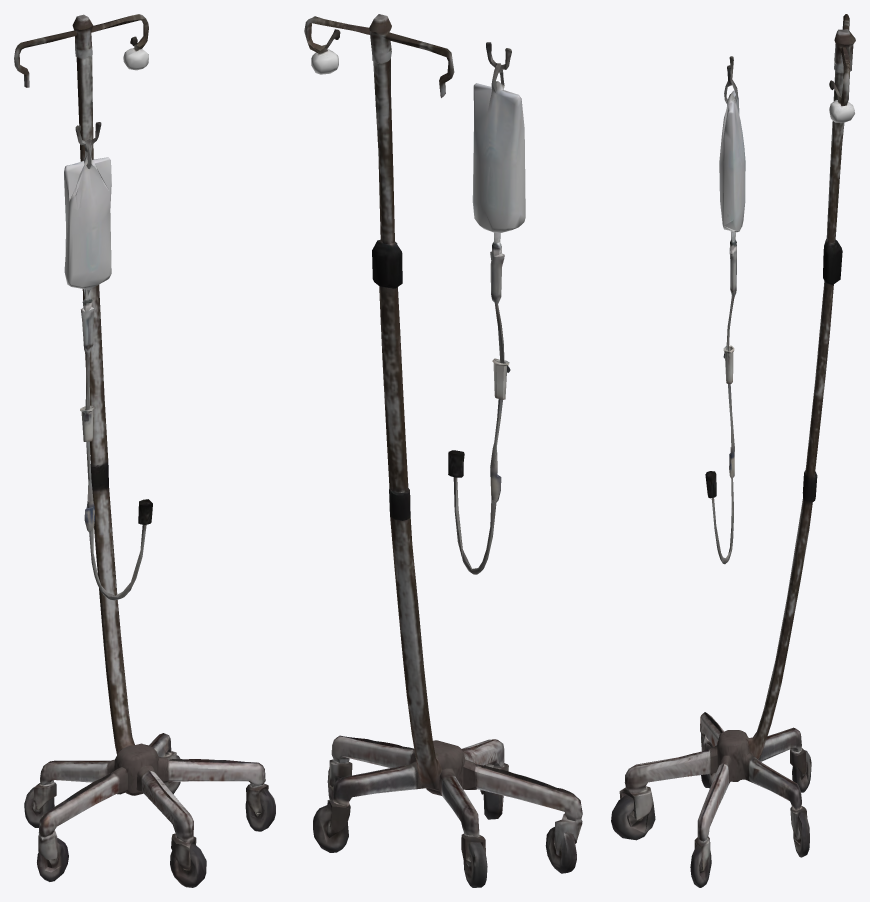
Rendered from p7-iv-pole.glb.
3 views of the same model, side by side, from view 1: azimuth 30°, elevation 25°; view 2: azimuth 150°, elevation 25°; view 3: azimuth 270°, elevation 25° (orthographic). The views are drawn at different scales.
Visible parts, largest first — view 1: p7-iv-pole; view 2: p7-iv-pole; view 3: p7-iv-pole.
Boxes of the visible parts, box(x1,y1,x2,y2) form: p7-iv-pole: box(14, 14, 275, 887); p7-iv-pole: box(304, 14, 582, 887); p7-iv-pole: box(611, 14, 855, 887).
Bounding box in the file's own units: 0.6126 × 2 × 0.55.
1 material, 1 textured.
